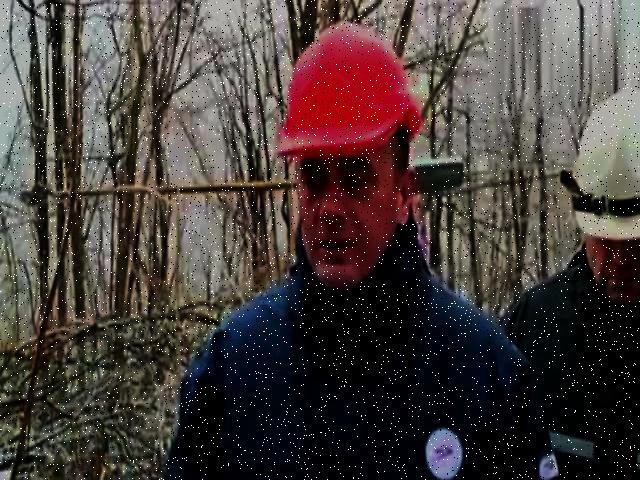Helmet: (266, 14, 423, 164), (556, 73, 639, 248)
